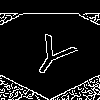Y: (25, 25, 84, 81)
